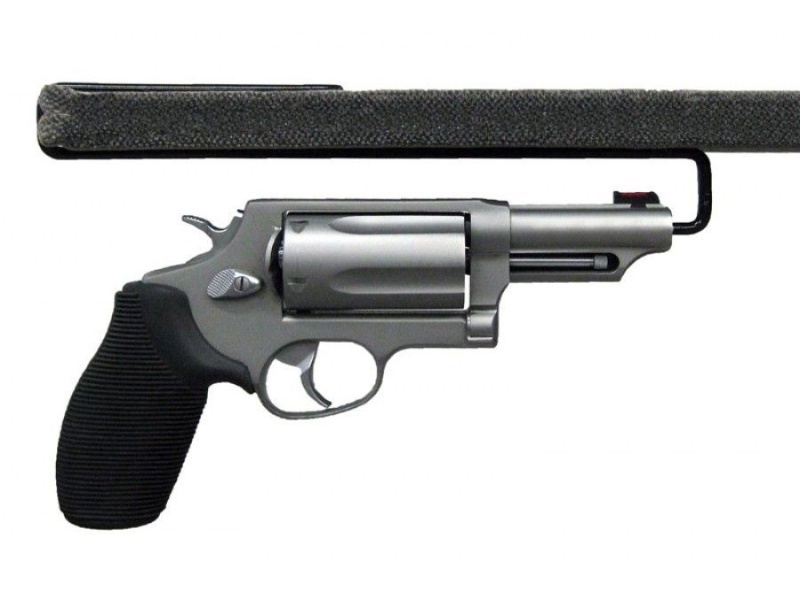gun: (58, 181, 678, 538)
